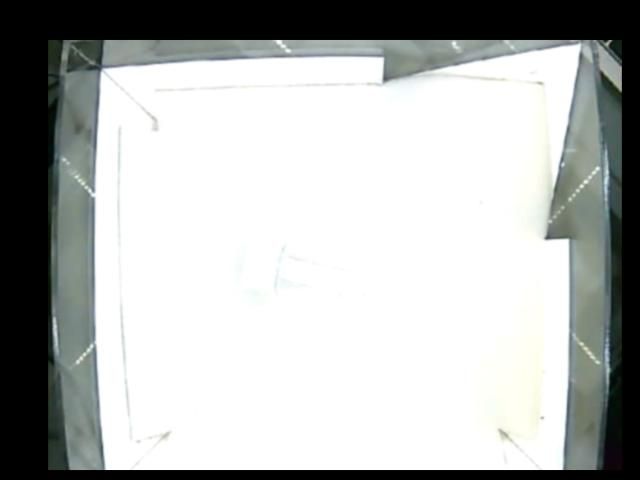Bottle: (240, 233, 353, 315)
